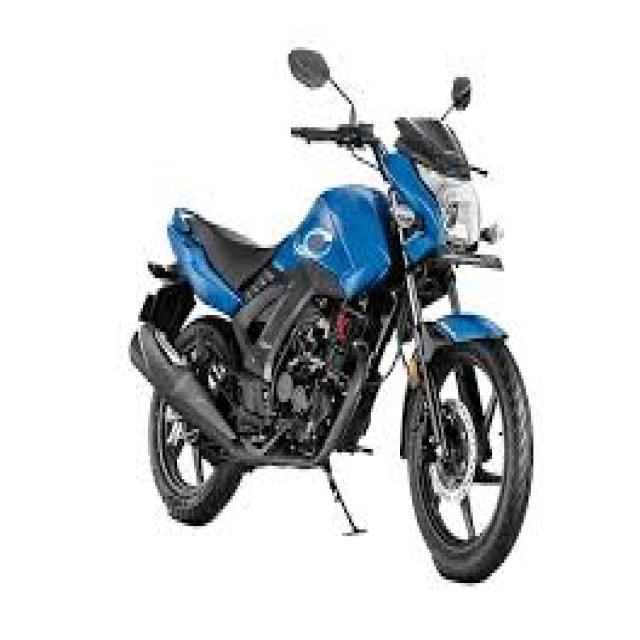bodaboda: (86, 27, 559, 598)
